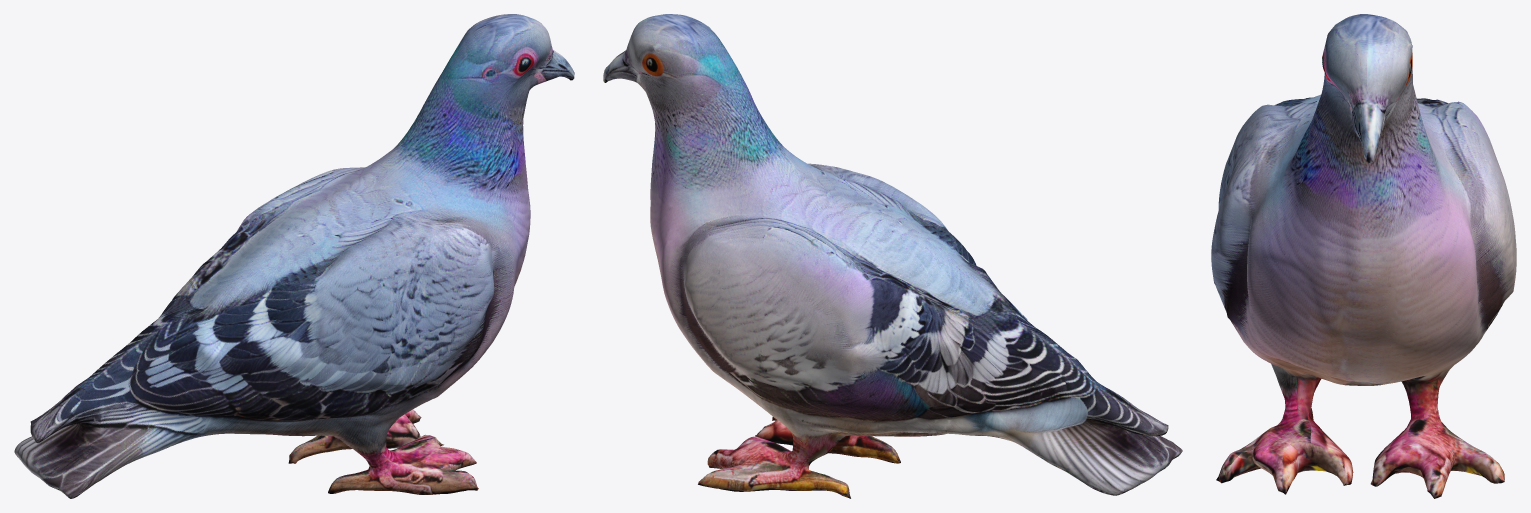
Rendered from pigeon.glb.
3 views of the same model, side by side, from view 1: azimuth 30°, elevation 25°; view 2: azimuth 150°, elevation 25°; view 3: azimuth 270°, elevation 25° (orthographic). The views are drawn at different scales.
Bounding box in the file's own units: 1.2 × 0.865 × 0.4597.
1 material, 1 textured.
